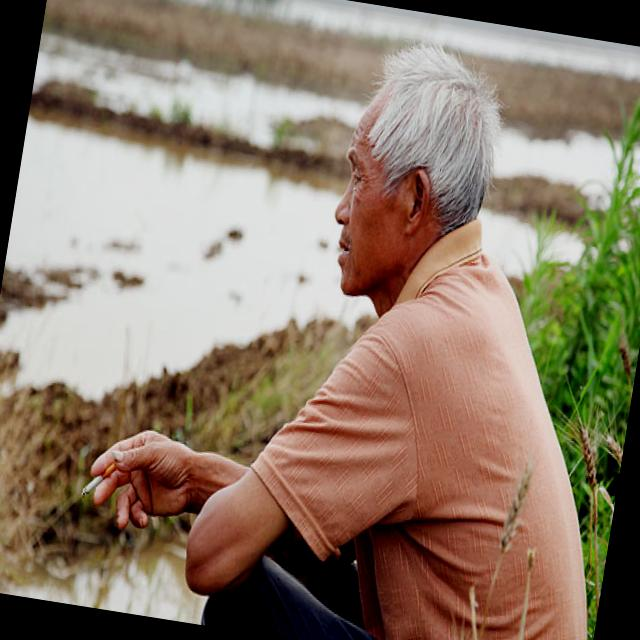smoke: (77, 468, 105, 501)
